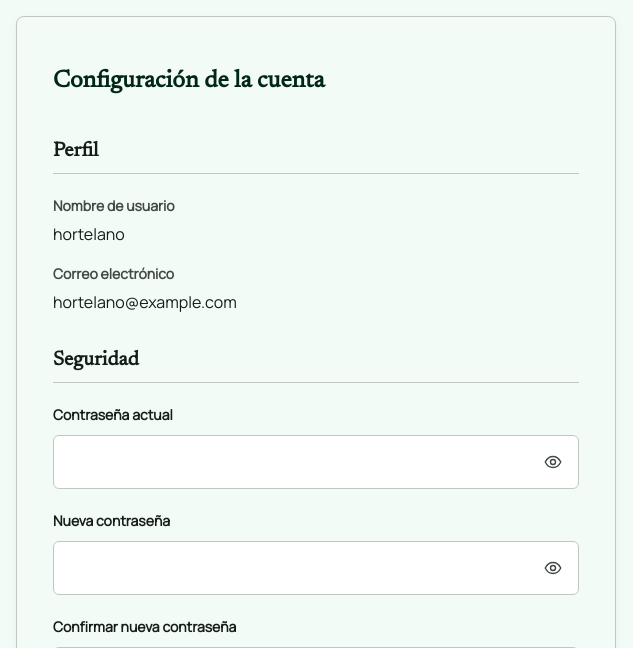
Test: AccountSettings Page › shows password strength bar when entering new password
This screenshot has width=633, height=648.
In the password field labelled "Nueva contraseña": {"x": 316, "y": 568} [53,541,579,595], type "Pass123!"
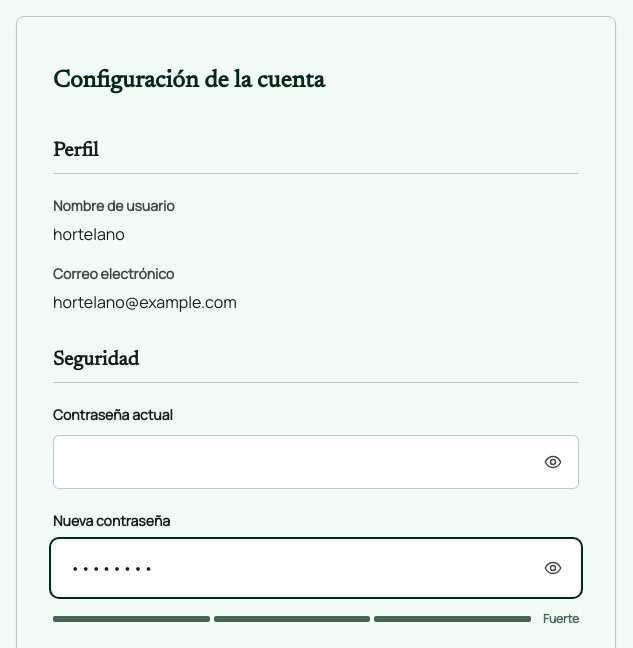
Result: the text "Fuerte" is shown at [543,607,579,631]
